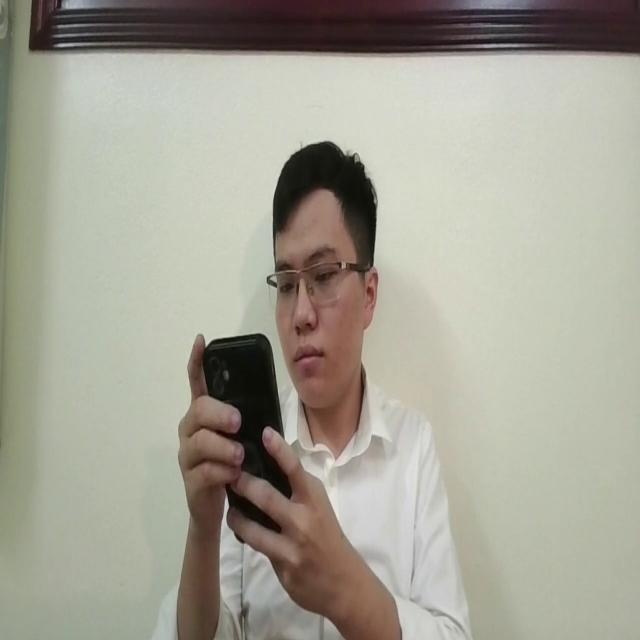phone: (202, 326, 294, 550)
student: (148, 139, 474, 640)
